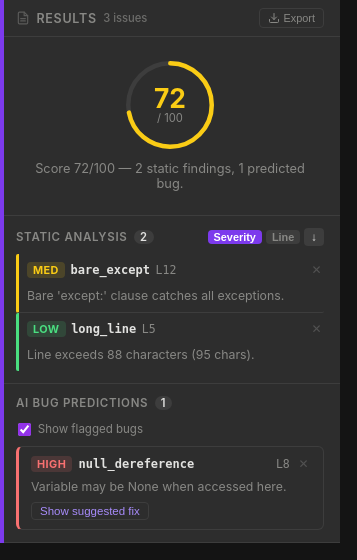
Test case: ResultsPanel — ignore buttons › ignoring a bug removes it from the list
The width and height of the screenshot is (357, 560).
Step 1. Click the button titled "Ignore this bug" below "Show flagged bugs" → (304, 464), box [296,458,311,470]
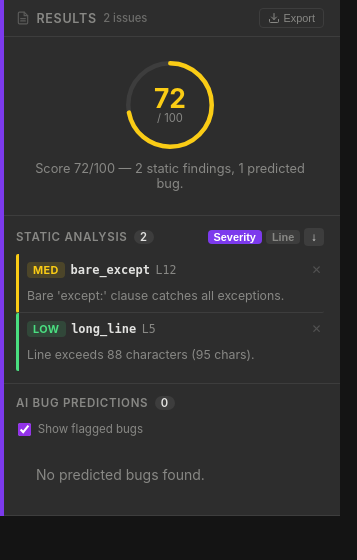
Check: the button "null_dereference" is gone
Check: the text "No predicted bugs found." is shown, box [36,466,205,483]
